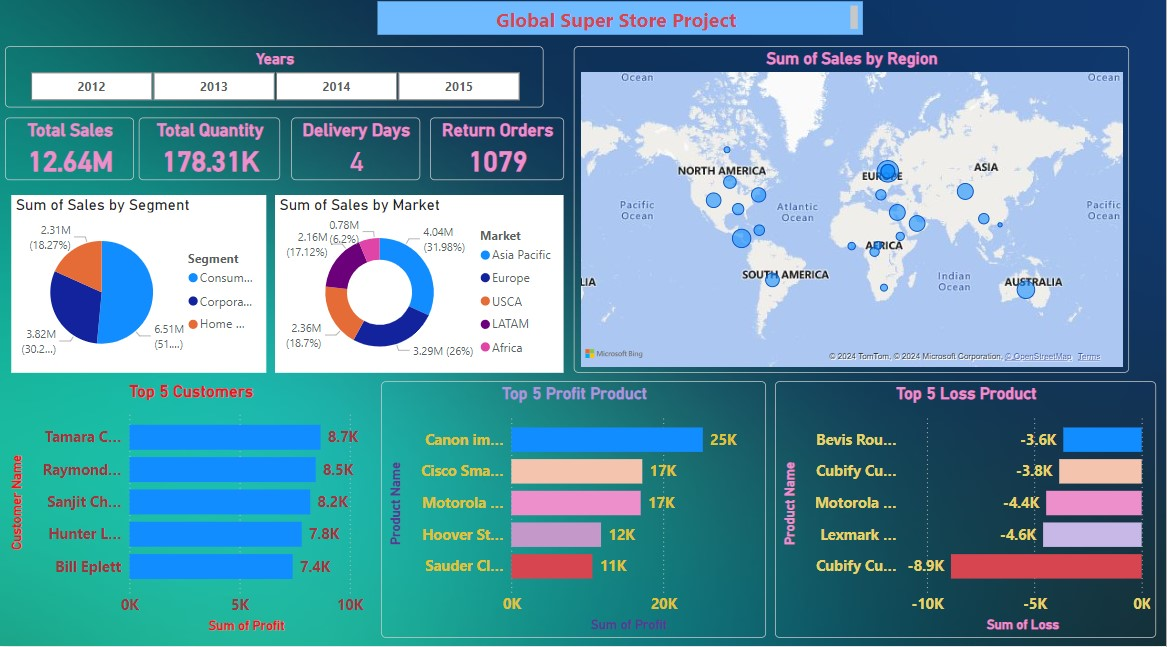

What the dashboard file says about the page in this screenshot:
{"tool":"powerbi","page":{"name":"Global Super Store Project","canvas":[1280,720],"ordinal":0},"visuals":[{"type":"card","title":"Total Sales","fields":{"Values":["Orders.Sales"]},"box":[5.5,140,141.3,68.6],"z":0},{"type":"card","title":"Total Quantity","fields":{"Values":["Orders.Quantity"]},"box":[152.3,140,155.1,68.6],"z":1000},{"type":"card","title":"Delivery Days","fields":{"Values":["Orders.Delivery Days"]},"box":[319.7,140,141.3,68.6],"z":2000},{"type":"slicer","title":"Years","fields":{"Values":["Orders.Year"]},"box":[5.5,61.7,591.4,67.2],"z":3000},{"type":"card","title":"Return Orders","fields":{"Values":["Returns.Return Orders"]},"box":[472,140,146.8,68.6],"z":4000},{"type":"map","fields":{"Category":["Orders.Region"],"Size":["Orders.Sales"]},"box":[629.8,61.7,609.3,358.1],"z":5000},{"type":"clusteredBarChart","title":"Top 5 Profit Product","fields":{"Y":["Orders.Profit"],"Category":["Orders.Product Name"]},"box":[418.5,429.5,422.6,281.3],"z":6000},{"type":"clusteredBarChart","title":"Top 5 Loss Product","fields":{"Y":["Orders.Profit"],"Category":["Orders.Product Name"]},"box":[850.8,429.5,418.5,281.3],"z":7000},{"type":"pieChart","fields":{"Category":["Orders.Segment"],"Y":["Orders.Sales"]},"box":[12.3,225,279.9,194.9],"z":8000},{"type":"donutChart","fields":{"Category":["Orders.Market"],"Y":["Orders.Sales"]},"box":[301.9,225,317,194.9],"z":9000},{"type":"clusteredBarChart","title":"Top 5 Customers","fields":{"Category":["Orders.Customer Name"],"Y":["Orders.Profit"]},"box":[5.5,429.5,408.9,281.3],"z":10000},{"type":"textbox","box":[414.4,12.3,532.4,37],"z":11000}]}

Visuals, with their boxes in screenshot pixels (x1, y1, x2, y2), scaled from the page's 1280x720 canvas onto the 1167x647 screenshot:
"Total Sales" card: rect(5, 126, 134, 187)
"Total Quantity" card: rect(139, 126, 280, 187)
"Delivery Days" card: rect(291, 126, 420, 187)
"Years" slicer: rect(5, 55, 544, 116)
"Return Orders" card: rect(430, 126, 564, 187)
map - Orders.Region x Orders.Sales: rect(574, 55, 1130, 377)
"Top 5 Profit Product" clusteredBarChart: rect(382, 386, 767, 639)
"Top 5 Loss Product" clusteredBarChart: rect(776, 386, 1157, 639)
pieChart - Orders.Segment x Orders.Sales: rect(11, 202, 266, 377)
donutChart - Orders.Market x Orders.Sales: rect(275, 202, 564, 377)
"Top 5 Customers" clusteredBarChart: rect(5, 386, 378, 639)
textbox: rect(378, 11, 863, 44)
